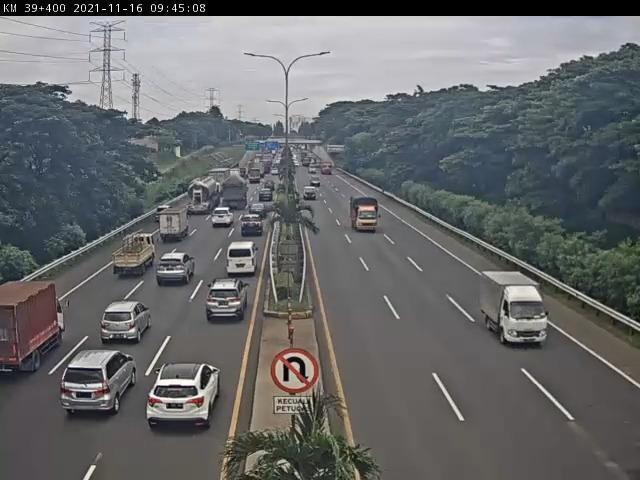car: (147, 362, 220, 429), (62, 353, 136, 413), (102, 304, 153, 343), (206, 280, 248, 323), (228, 241, 258, 275), (156, 257, 191, 286), (213, 207, 234, 228), (243, 217, 264, 238), (247, 204, 269, 222), (153, 209, 170, 226)
truck: (1, 281, 65, 374), (482, 271, 552, 348), (112, 233, 154, 278), (351, 197, 381, 234), (187, 178, 216, 214), (158, 211, 189, 243), (222, 177, 249, 210)
